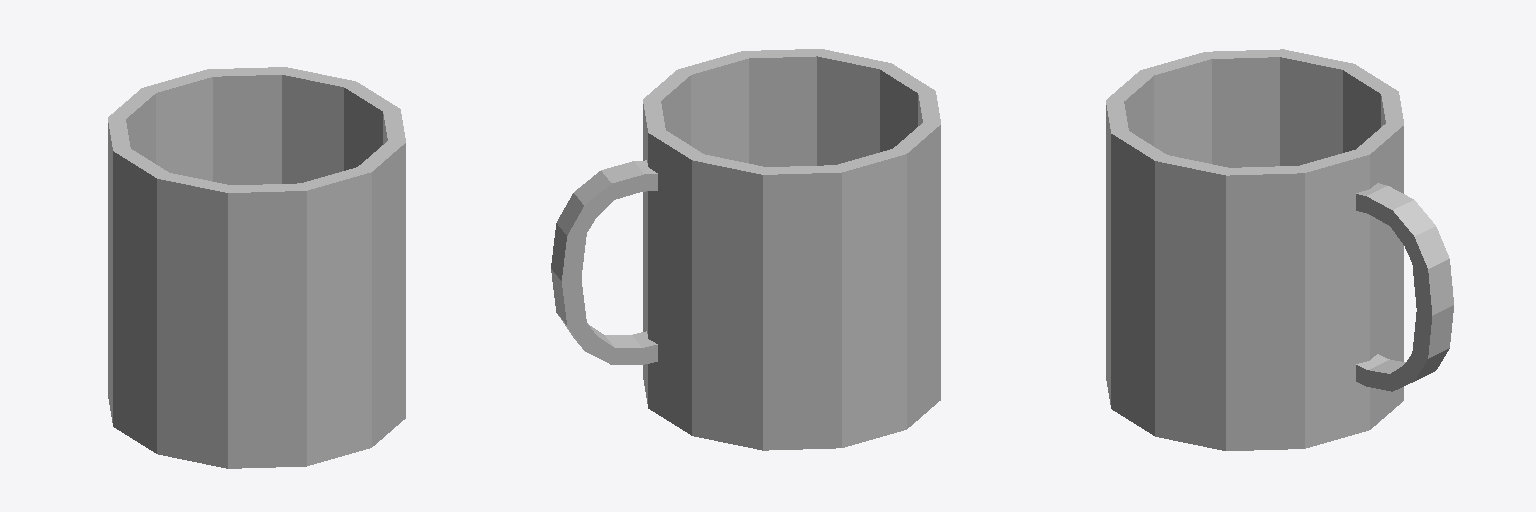
Rendered from Mug.obj.
The picture shows the model from 3 angles: view 1: azimuth 30°, elevation 25°; view 2: azimuth 150°, elevation 25°; view 3: azimuth 270°, elevation 25°; orthographic projection.
Visible parts, largest first — view 1: Mug pCylinder16; view 2: Mug pCylinder16, pCube9 Mug; view 3: Mug pCylinder16, pCube9 Mug.
Part boxes in pixels (x1,y1,x2,y2): Mug pCylinder16: (108,67,405,468); Mug pCylinder16: (643,49,940,450); pCube9 Mug: (551,160,657,364); Mug pCylinder16: (1106,49,1403,450); pCube9 Mug: (1356,183,1453,391).
Size of the model in its own units: 0.3707 by 0.3467 by 0.3971.